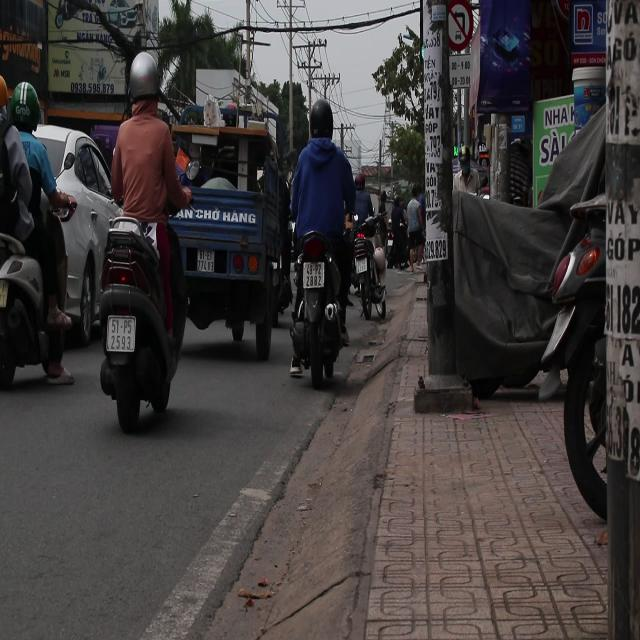car: (0, 118, 131, 360)
motorbike: (0, 147, 88, 418), (92, 191, 182, 433), (287, 226, 349, 386), (384, 208, 426, 310), (352, 222, 388, 322)
